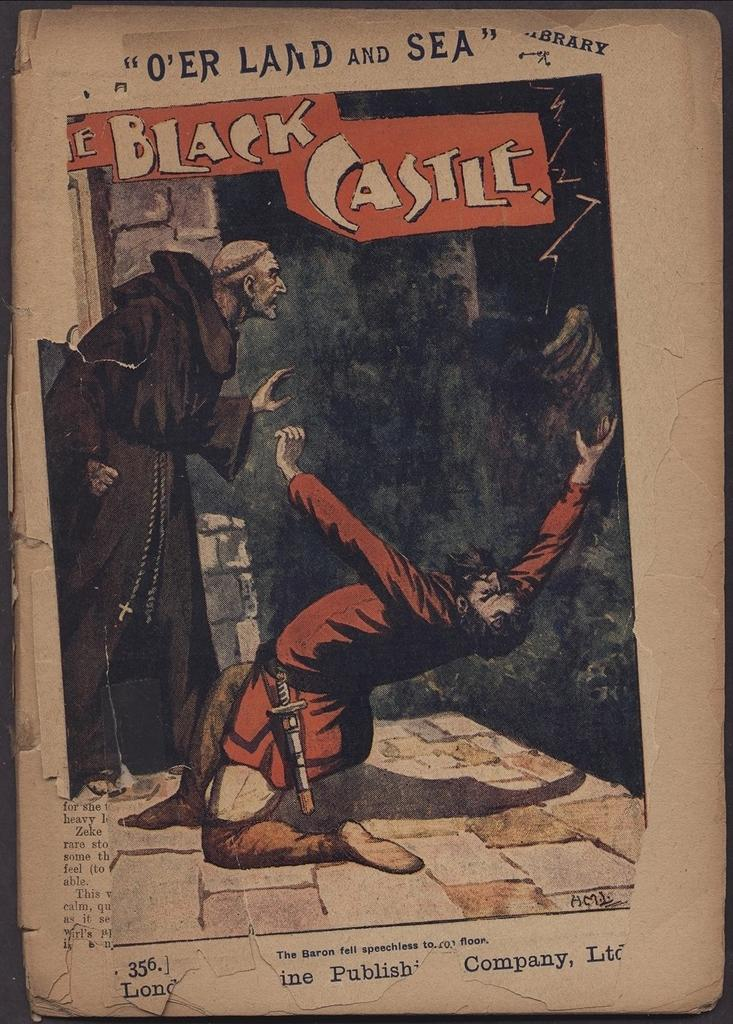book: (0, 1, 732, 1023)
